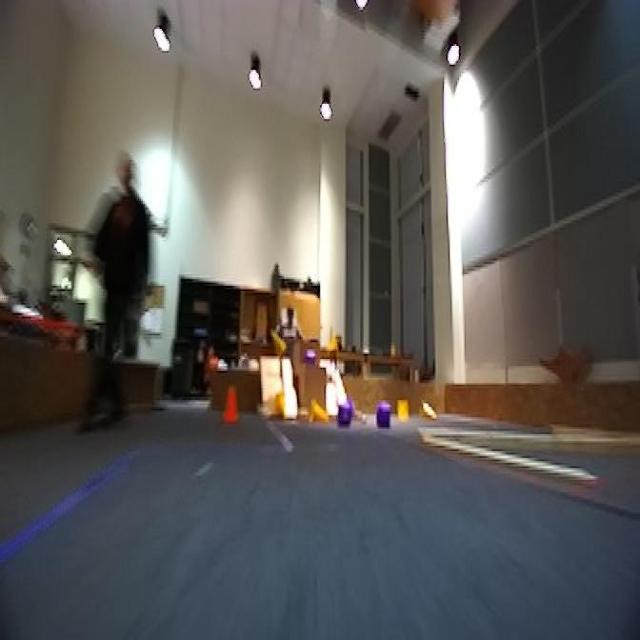frc_cone: (308, 397, 330, 427), (272, 390, 290, 420), (419, 400, 439, 426), (395, 397, 410, 429), (274, 334, 292, 359), (325, 327, 339, 357)
frc_cube: (374, 400, 394, 432), (303, 342, 319, 366), (336, 402, 350, 429)
